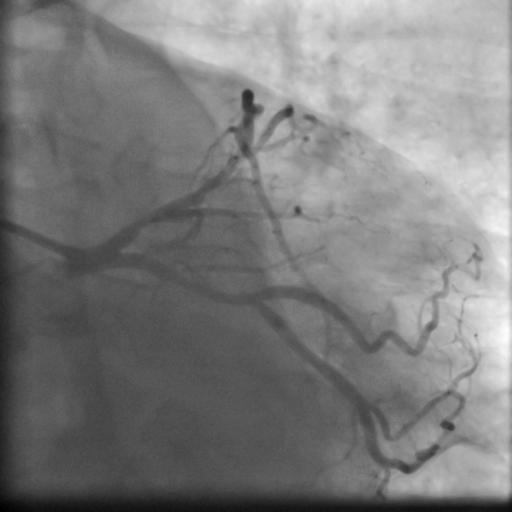Stenosis: (127, 208, 171, 232)
